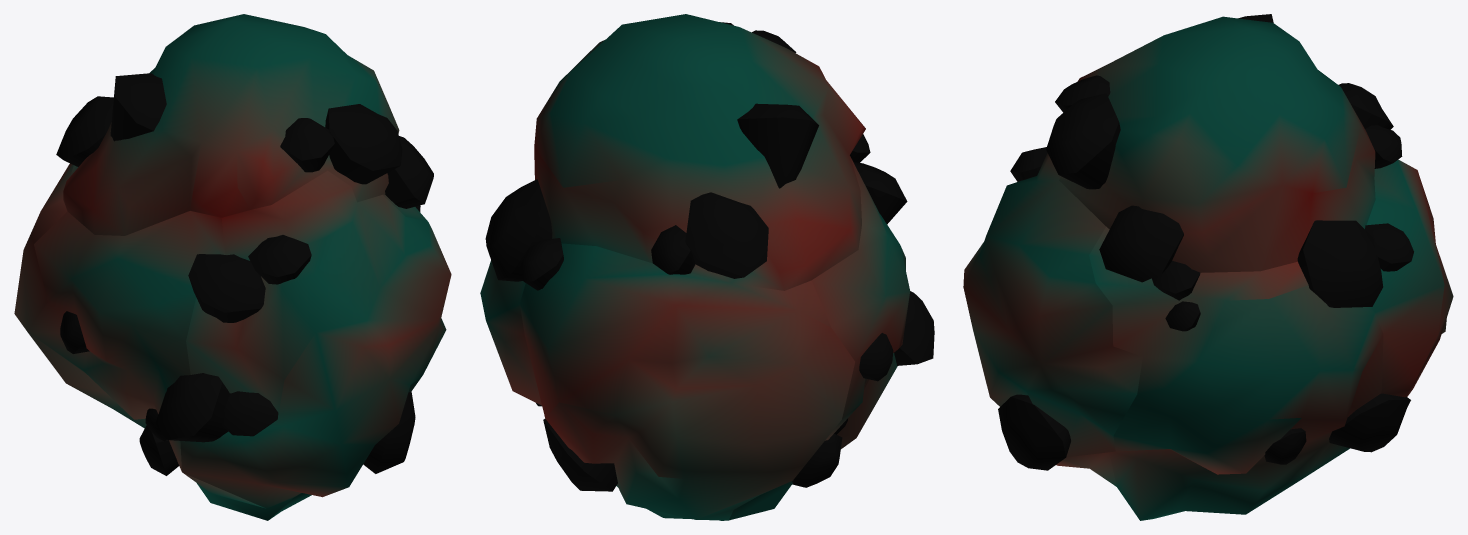
File: hvs_farmables_mud.fbx
3 renders of one model, left to right at view 1: azimuth 30°, elevation 25°; view 2: azimuth 150°, elevation 25°; view 3: azimuth 270°, elevation 25°, orthographic. The views are drawn at different scales.
Parts seen in each view (by area): view 1: lod0_hvs_farmables_mud.001; view 2: lod0_hvs_farmables_mud.001; view 3: lod0_hvs_farmables_mud.001.
Part boxes in pixels (x1,y1,x2,y2): lod0_hvs_farmables_mud.001: (14, 14, 451, 520); lod0_hvs_farmables_mud.001: (480, 14, 934, 520); lod0_hvs_farmables_mud.001: (963, 14, 1453, 520).
Bounding box in the file's own units: 4.5 × 5.58 × 5.08.
